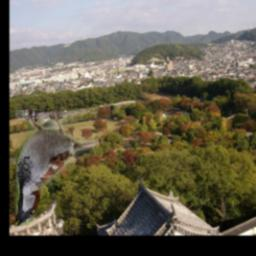Sparrow: (16, 109, 99, 226)
